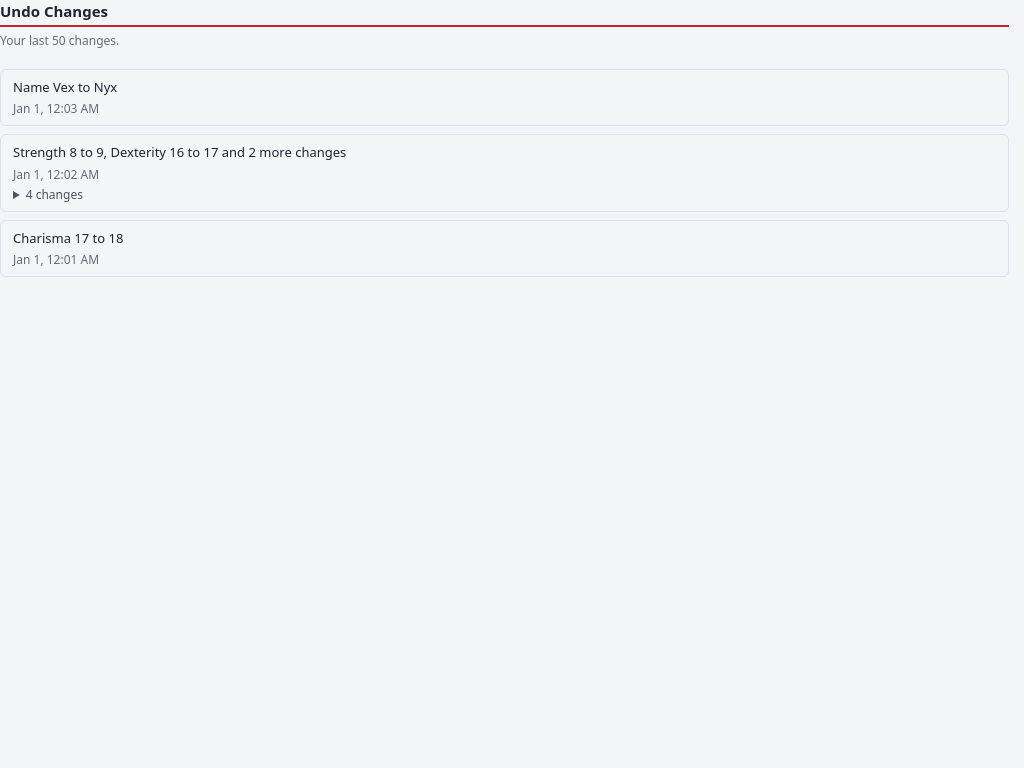
it: UndoHistory › keeps the dialog open naming the refusal where the character moved on, and rereads both
Check: the number of list items is 3, box [0,68,1009,126]; [0,134,1009,212]; [0,220,1009,277]
Click the button with aria-label "Undo to here".
click(65, 86)  # box [13,78,996,117]
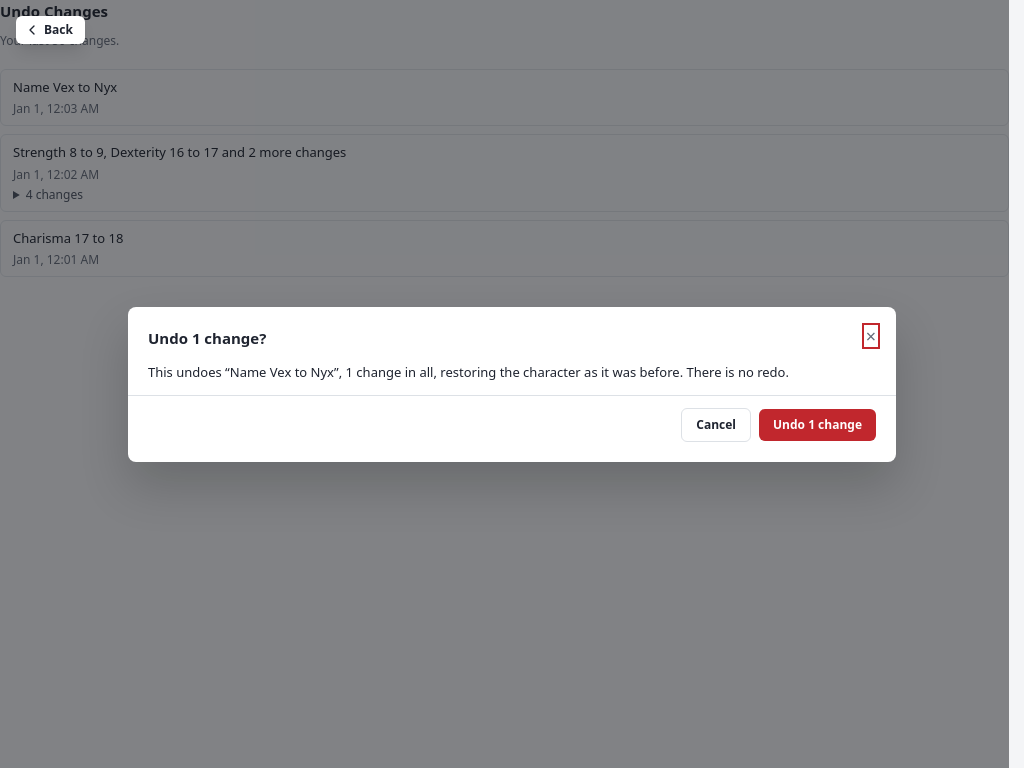
Click the button "Undo 1 change".
click(818, 424)  # box [759,408,876,440]
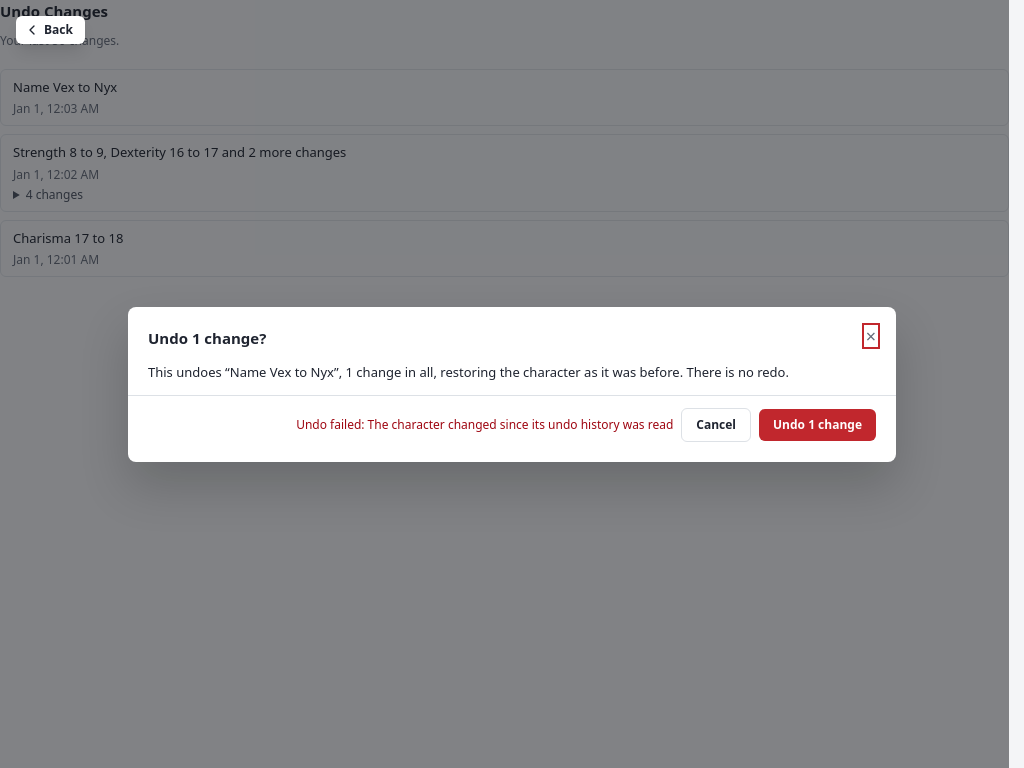
Check: the message reads "Undo failed: The character changed since its undo history was read", box [296,416,673,432]
